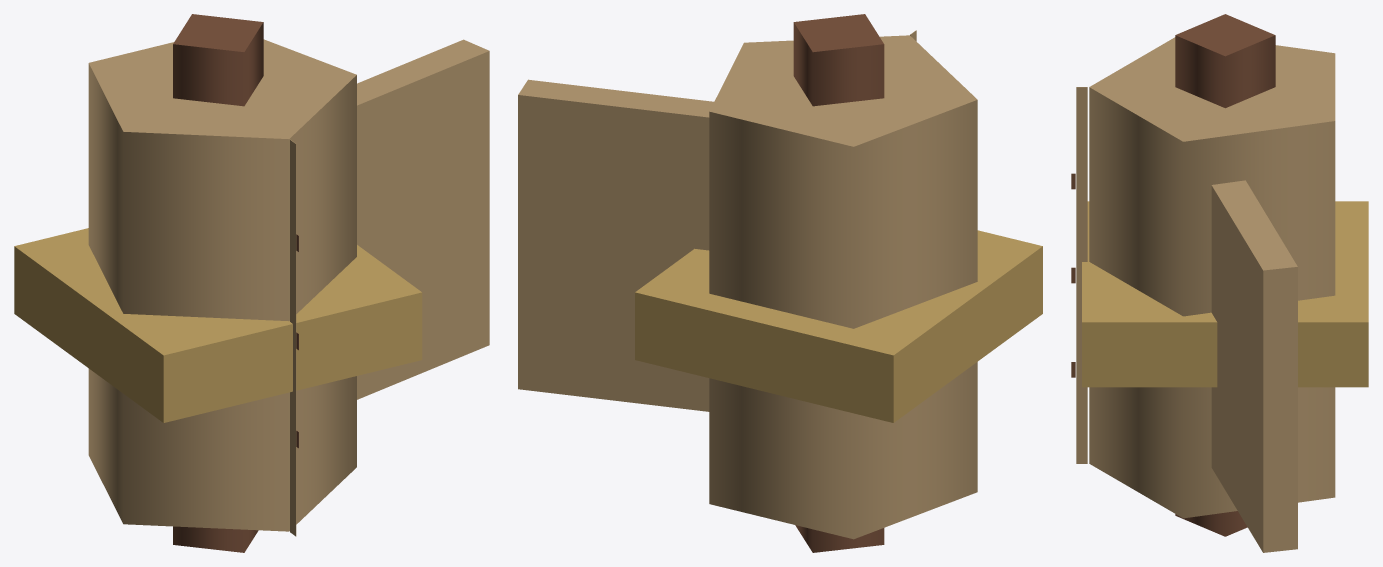
The model's file is scroll-0-lod2.glb.
3 renders of one model, left to right at view 1: azimuth 30°, elevation 25°; view 2: azimuth 150°, elevation 25°; view 3: azimuth 270°, elevation 25°, orthographic. The views are drawn at different scales.
Visible parts, largest first — view 1: piece_whole, ReadingSheet; view 2: piece_whole; view 3: piece_whole, ReadingSheet.
Boxes of the visible parts, box(x1,y1,x2,y2) form: piece_whole: box(14, 14, 489, 552); ReadingSheet: box(290, 139, 298, 536); piece_whole: box(518, 14, 1042, 552); piece_whole: box(1082, 14, 1368, 552); ReadingSheet: box(1071, 87, 1087, 463).
Size of the model in its own units: 0.3251 by 0.37 by 0.2075.
